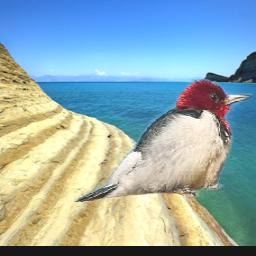Woodpecker: (73, 80, 253, 203)
